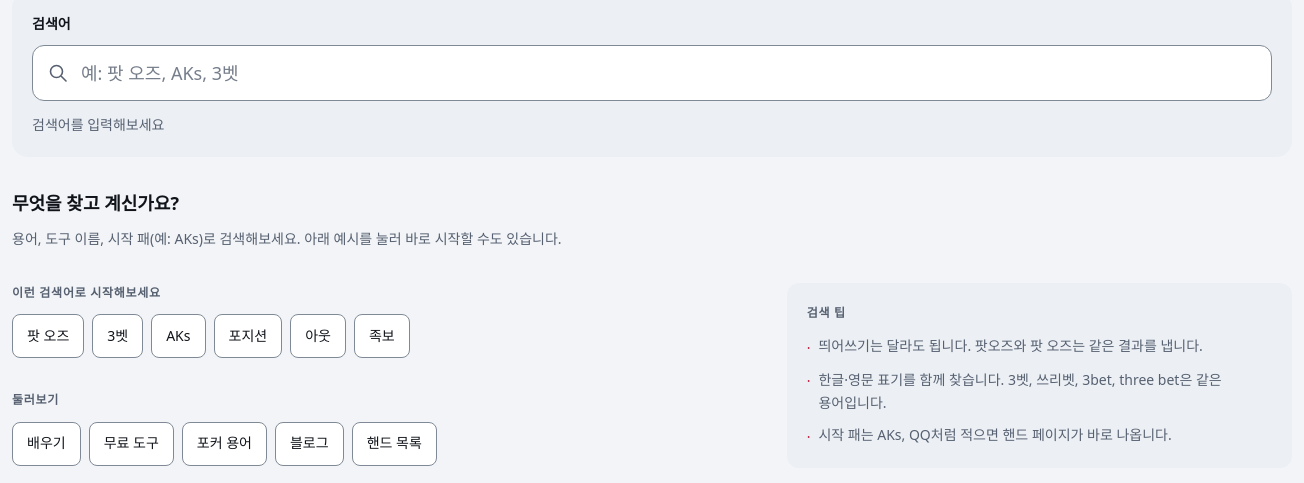
SearchClient › finds a Korean query with different spacing than the record it targets
This screenshot has width=1304, height=483.
In the search field labelled "검색어": (652, 72) top-left (32, 44), bottom-right (1272, 100), type "팟오즈"
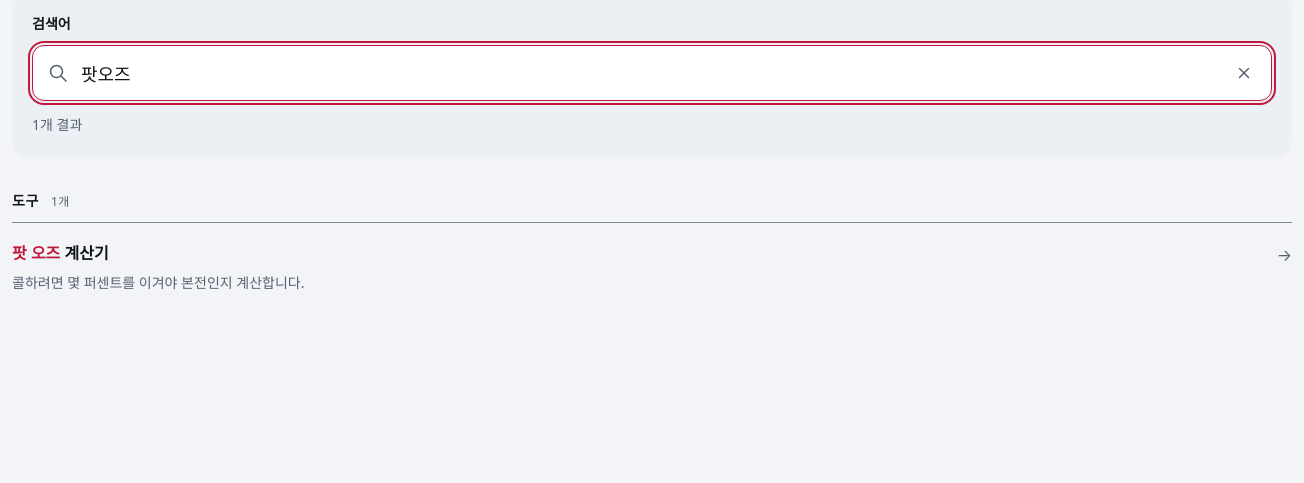
Expected: the link "팟 오즈 계산기 콜하려면 몇 퍼센트를 이겨야 본전인지 계산합니다. →" is shown, top-left (12, 242), bottom-right (1292, 292)
